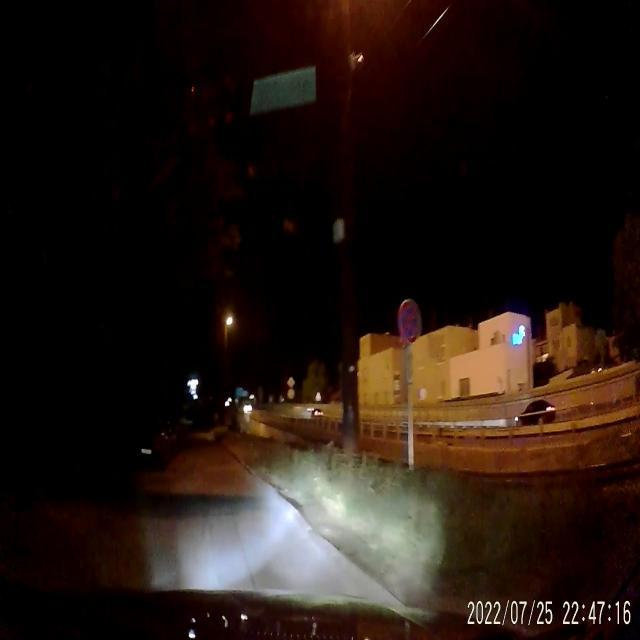Pothole: (201, 519, 216, 549)
